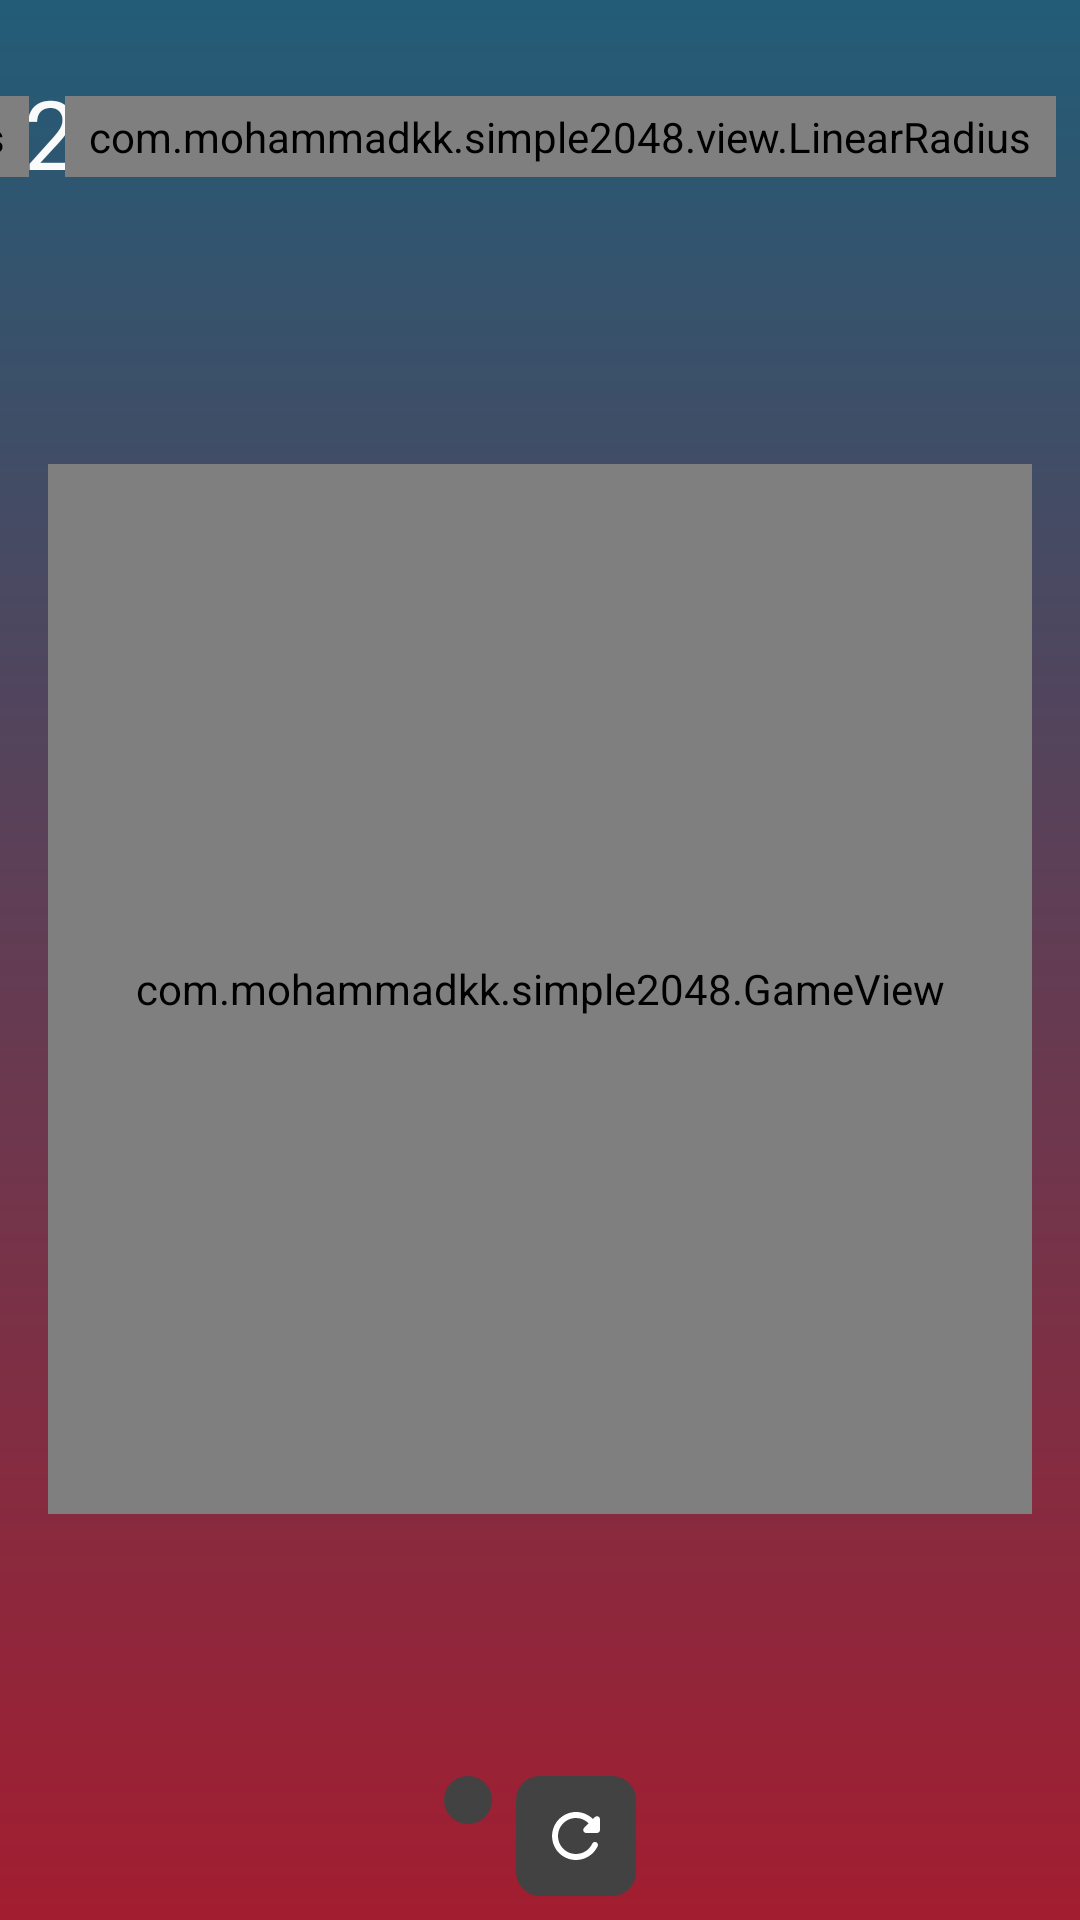

Screen size 1080*1920. Icon name, then its box in pixels as (x1, y1, x2, y2):
refresh: (516, 1776, 636, 1896)
